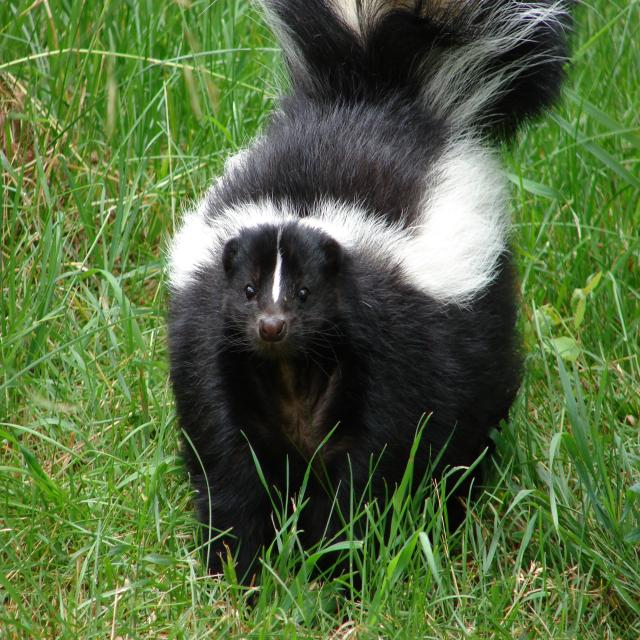Skunk: (155, 0, 568, 572)
